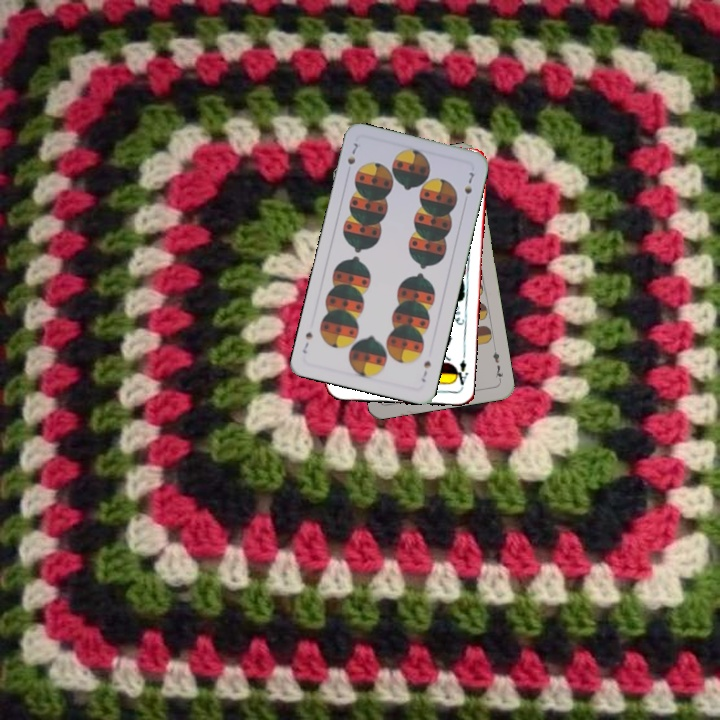E7: (489, 343, 506, 384)
EA: (450, 350, 470, 387)
S7: (417, 357, 434, 385), (343, 139, 360, 167)
